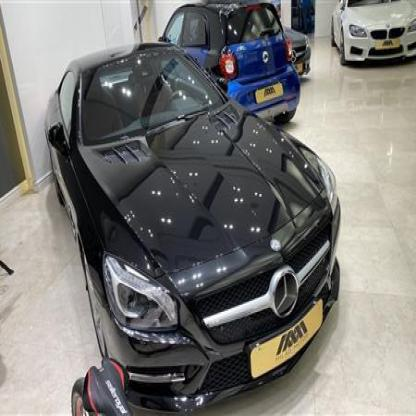Car: (28, 38, 342, 396), (167, 0, 299, 122), (333, 0, 416, 76), (279, 21, 323, 90)
